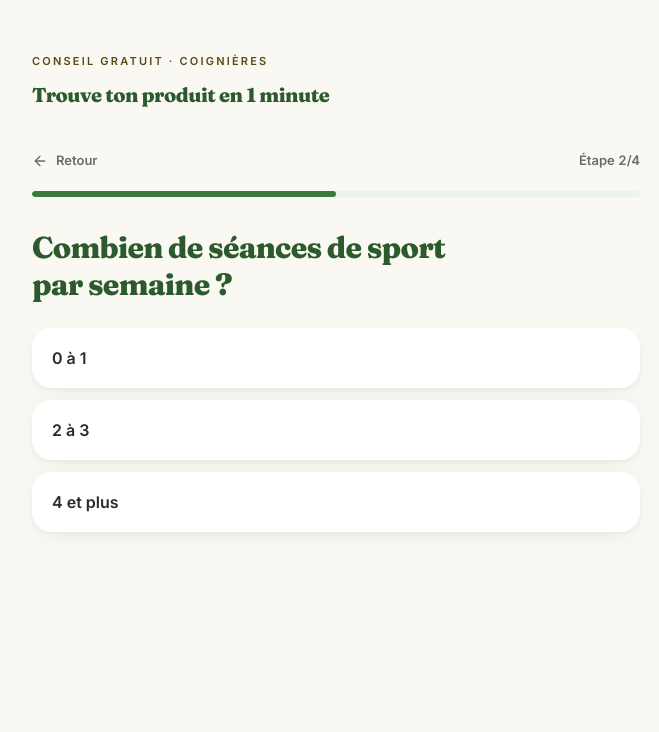
it: écrans › ?objectif= à l’arrivée : démarre à l’étape 2, « Retour » ramène à l’étape 1
The width and height of the screenshot is (659, 732).
Expected: the text "Étape 2/4" is shown, [579,151,640,170]
Click the button "Retour" at (65, 160), box [16,138,114,182]
(page scrolled)
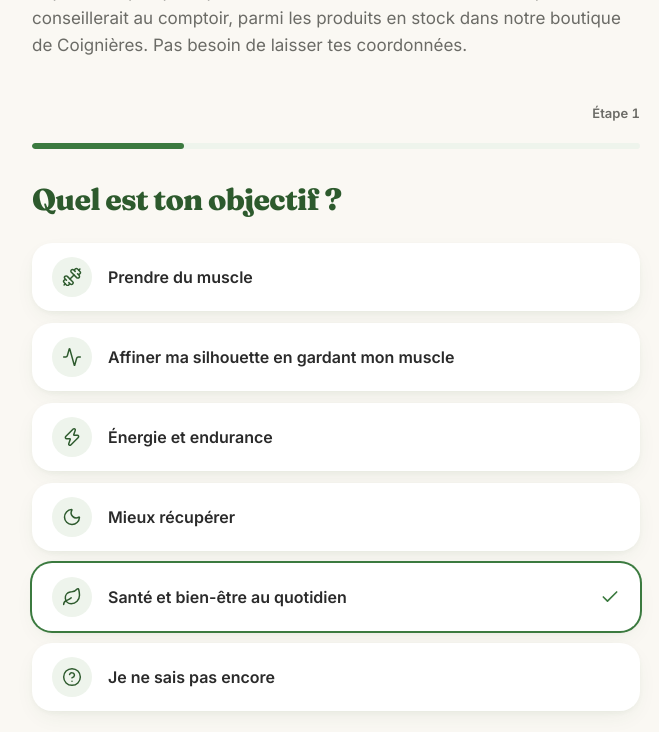
Expected: the text "Étape 1" is shown, [592,104,640,123]
